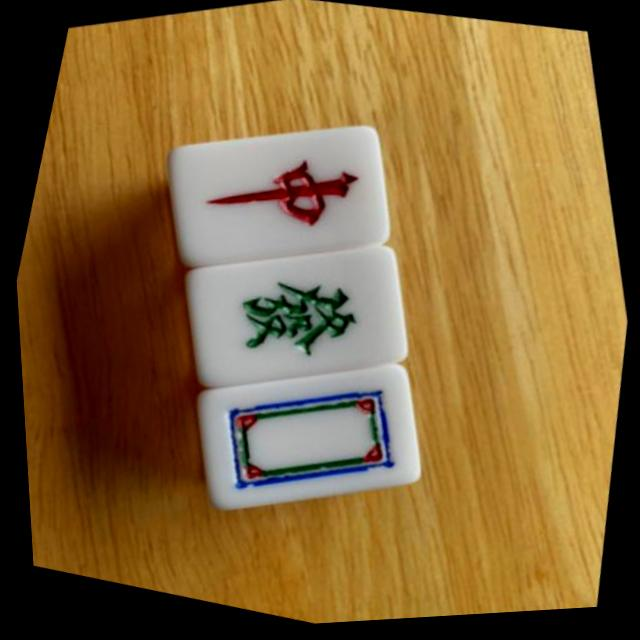hdg: (159, 195, 442, 437)
hdr: (148, 78, 426, 316)
hdw: (168, 317, 451, 559)
